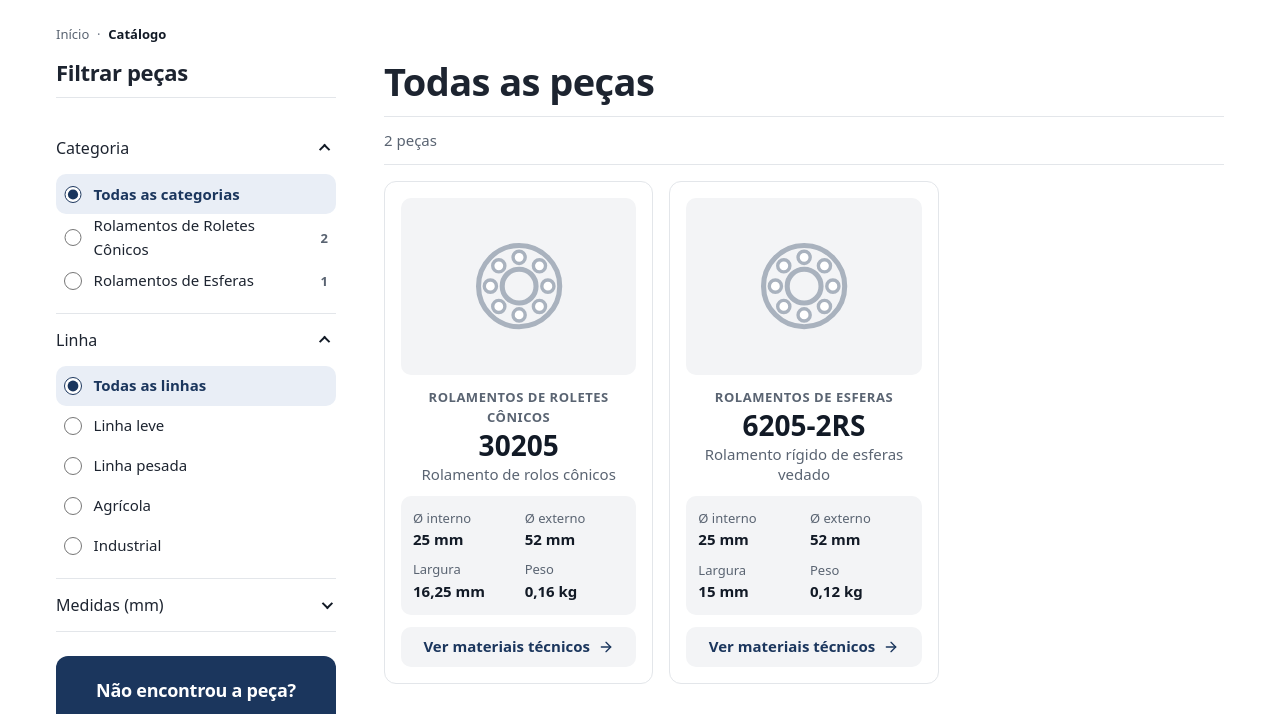
Test: Catálogo de peças › escolher uma categoria filtra, troca o título e mostra a pílula do filtro
Check: the text "30205" is shown, box 479,429 -> 559,461
Click the radio button labelled "Rolamentos de Roletes Cônicos 2" at (73, 238), box 64,229 -> 82,246
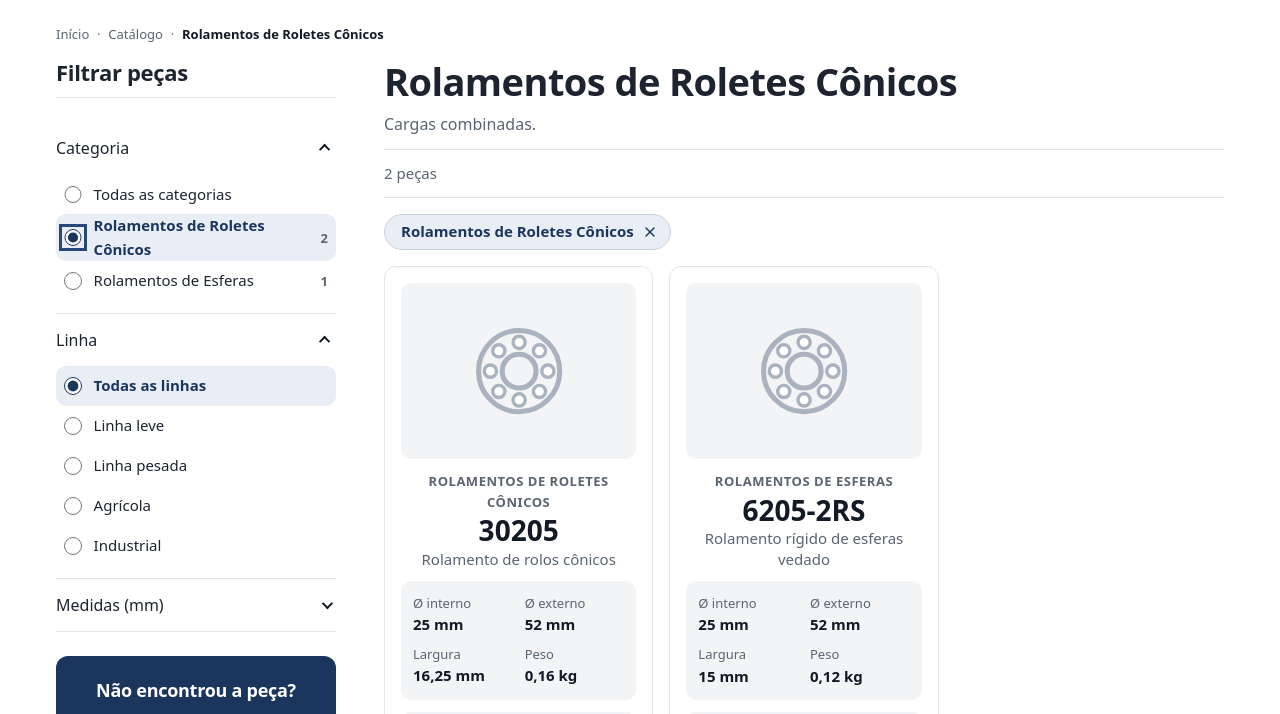
Check: the heading "Rolamentos de Roletes Cônicos" is shown, box 384,55 -> 957,107
Check: the text "Cargas combinadas." is shown, box 384,113 -> 536,135
Check: the button with aria-label "Remover filtro: Rolamentos de Roletes Cônicos" is shown, box 384,214 -> 671,250
